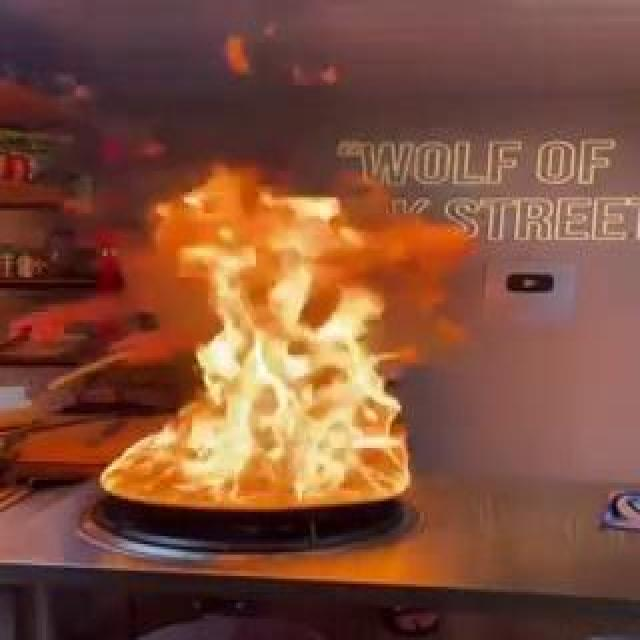Fire: (87, 138, 433, 514)
